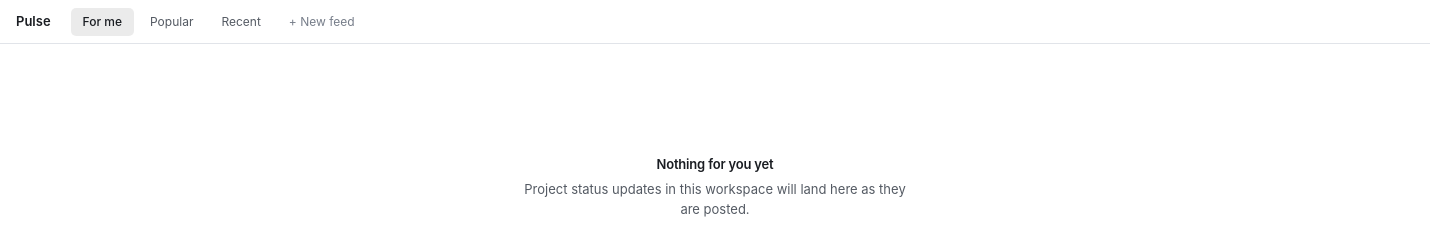
Test: Pulse › offers Popular, Recent, and New feed alongside For me
Expected: the tab "For me" is shown, [71,8,134,36]
Expected: the tab "Recent" is shown, [209,8,273,36]
Click the tab "Popular": (172, 22) [138,8,205,36]
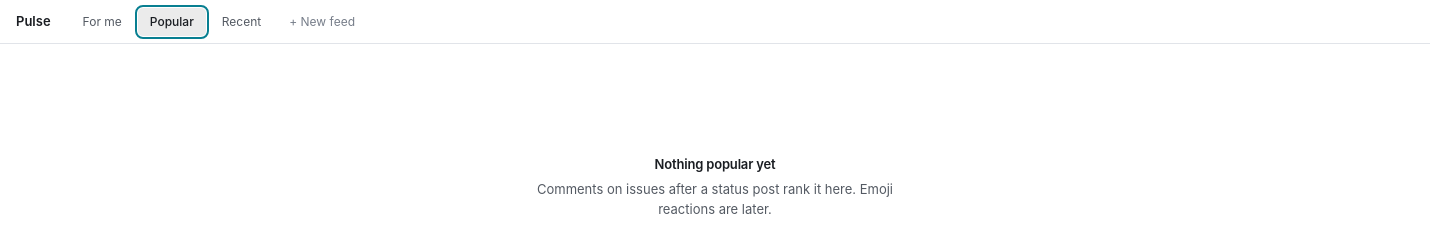
Now the text "Nothing popular yet" is shown, box [655,156,775,172]
